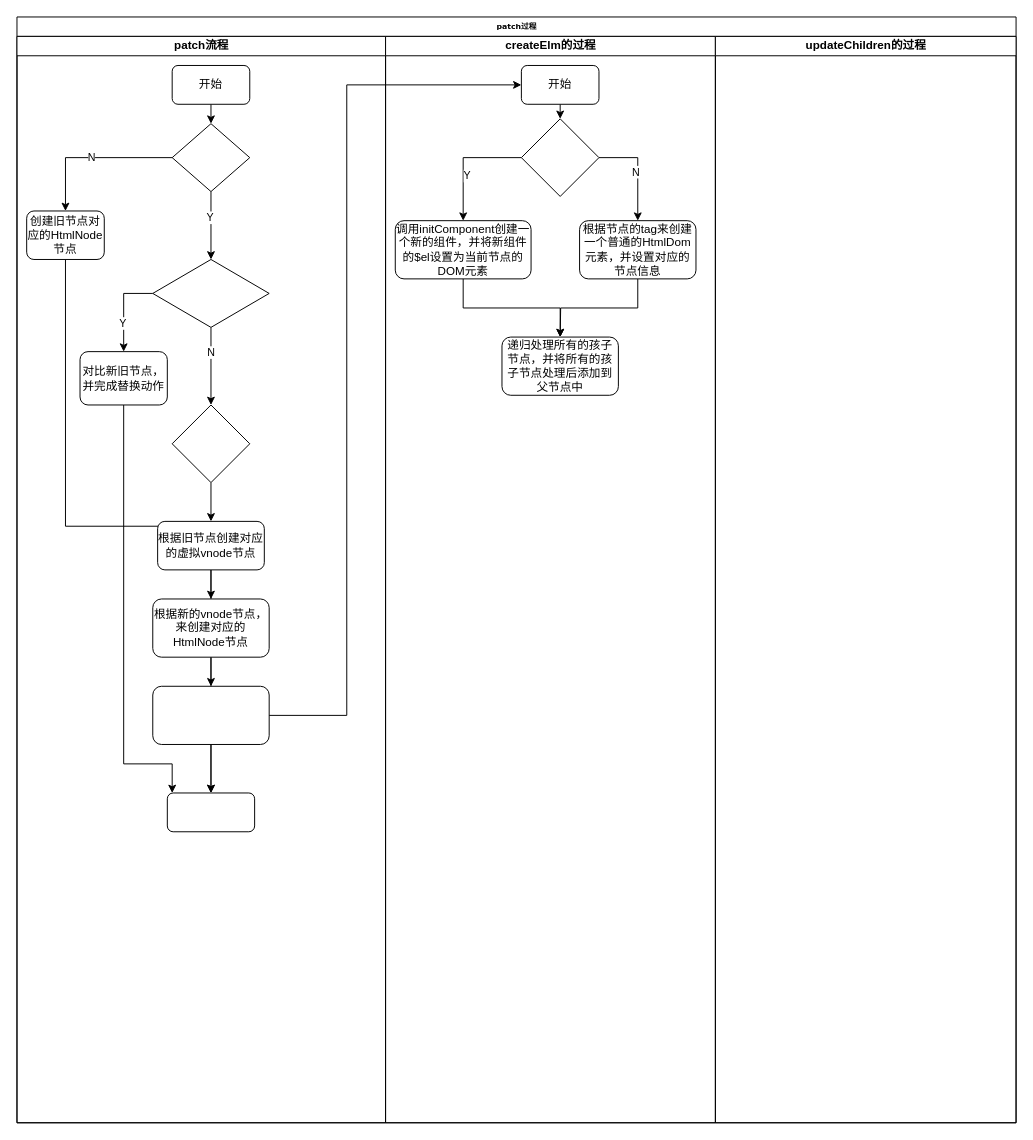
The diagram is 1033 pixels wide and 1140 high, and some of its shapes have lost their labels. Each missing label, with the centre of its shape:
旧节点不是真实HtmlNode并且与新的节点是同一个节点？: pixel 210 293
旧节点是否不存在？: pixel 210 157
旧节点是真实的HtmlNode？: pixel 210 443
结束: pixel 210 812
节点类型为组件类型？: pixel 559 157
进入createElm的过程: pixel 210 714
